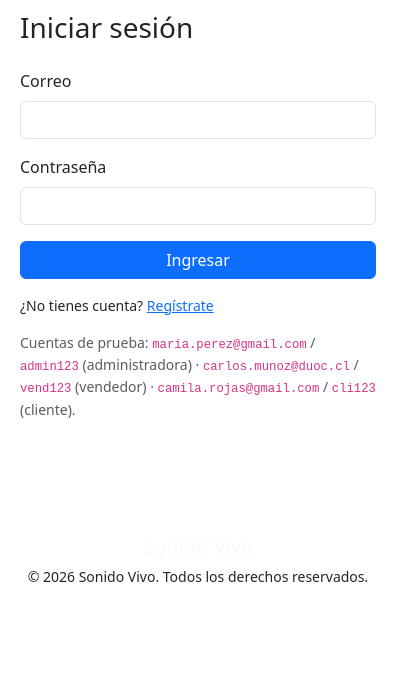
Test case: Login (POST /auth/login) › credenciales incorrectas muestran el mensaje del backend (401)
Type "maria.perez@gmail.com" into the field labelled "Correo" at [198, 120], box [20, 101, 376, 139]
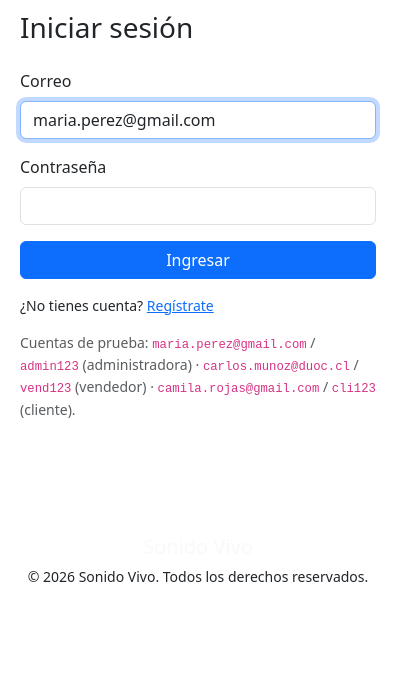
Type "mala1" into the password field labelled "Contraseña" at [198, 206], box [20, 187, 376, 225]
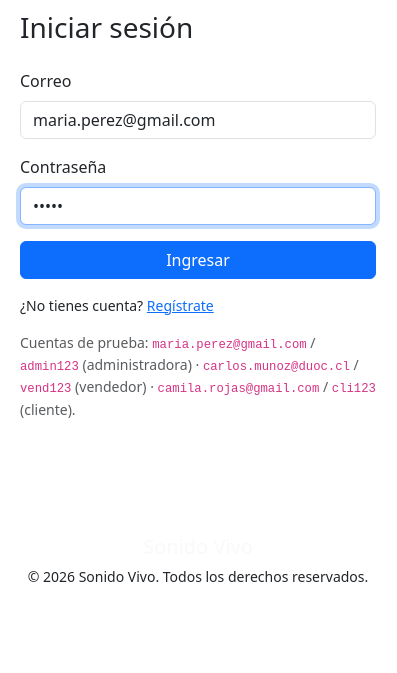
Click the button "Ingresar" at [198, 260], box [20, 241, 376, 279]
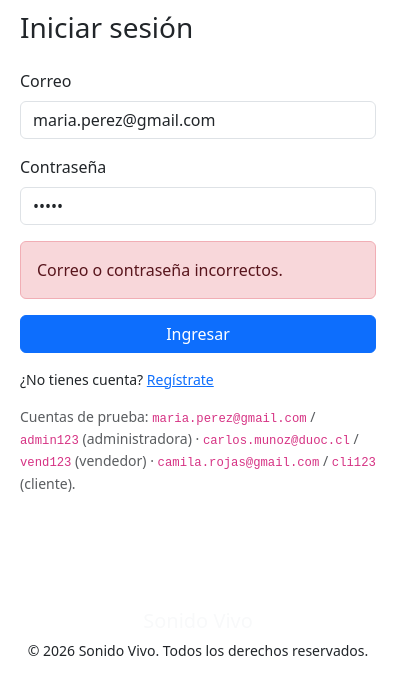
Expected: the text "Correo o contraseña incorrectos." is shown, [20, 241, 376, 299]
